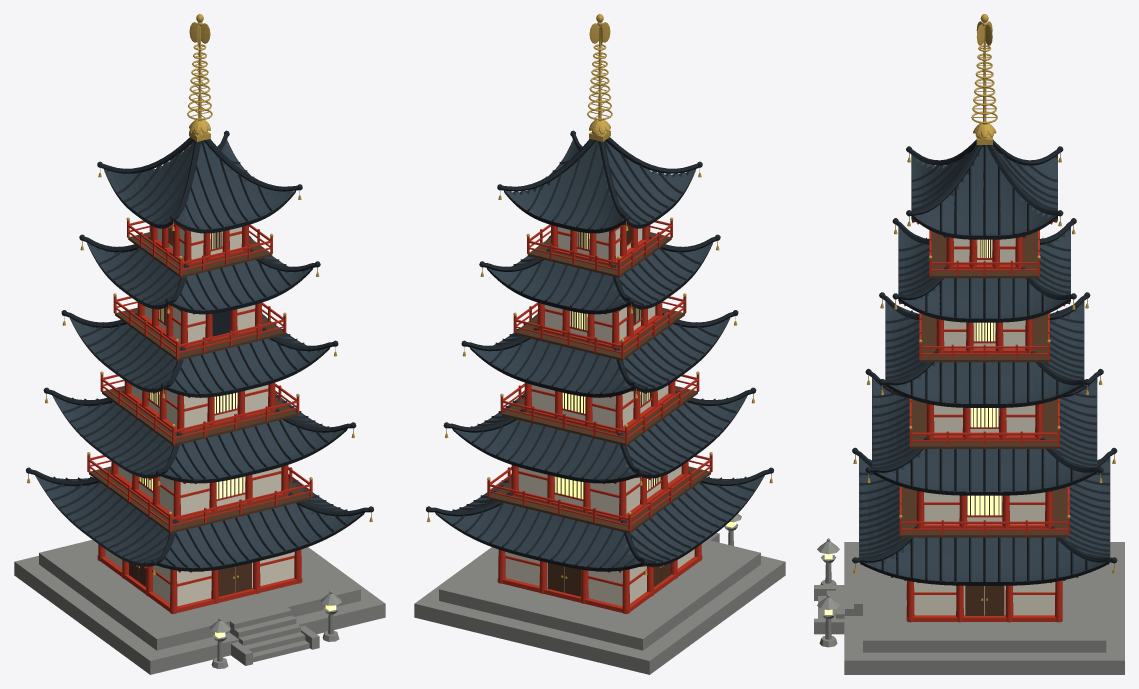
Rendered from pagoda.glb.
3 views of the same model, side by side, from view 1: azimuth 30°, elevation 25°; view 2: azimuth 150°, elevation 25°; view 3: azimuth 270°, elevation 25° (orthographic). The views are drawn at different scales.
Parts seen in each view (by area): view 1: Pagoda_roof, Pagoda_trim, Pagoda_stone, Pagoda_red, Pagoda_wood, Pagoda_wall, Pagoda_gold, Pagoda_glow; view 2: Pagoda_roof, Pagoda_trim, Pagoda_stone, Pagoda_red, Pagoda_wood, Pagoda_wall, Pagoda_gold, Pagoda_glow; view 3: Pagoda_roof, Pagoda_trim, Pagoda_stone, Pagoda_red, Pagoda_wood, Pagoda_wall, Pagoda_gold, Pagoda_glow.
Part boxes in pixels (box(x1,y1,x2,y2)): Pagoda_roof: box(35, 140, 362, 568); Pagoda_trim: box(26, 130, 373, 571); Pagoda_stone: box(14, 540, 385, 674); Pagoda_red: box(87, 220, 312, 613); Pagoda_wood: box(89, 222, 310, 596); Pagoda_wall: box(105, 227, 294, 606); Pagoda_gold: box(27, 14, 372, 578); Pagoda_glow: box(139, 232, 336, 638); Pagoda_roof: box(436, 140, 764, 568); Pagoda_trim: box(426, 130, 773, 571); Pagoda_stone: box(414, 514, 785, 674); Pagoda_red: box(487, 220, 712, 613); Pagoda_wood: box(489, 222, 710, 596); Pagoda_wall: box(505, 227, 694, 606); Pagoda_gold: box(427, 14, 772, 578); Pagoda_glow: box(555, 232, 736, 527); Pagoda_roof: box(859, 145, 1110, 582); Pagoda_trim: box(852, 139, 1117, 585); Pagoda_stone: box(814, 538, 1124, 674); Pagoda_red: box(865, 221, 1104, 622); Pagoda_wood: box(861, 218, 1108, 615); Pagoda_wall: box(914, 238, 1055, 615); Pagoda_gold: box(853, 14, 1115, 600); Pagoda_glow: box(824, 239, 1001, 614).
Bounding box in the file's own units: 10.6 × 25.07 × 11.75.
